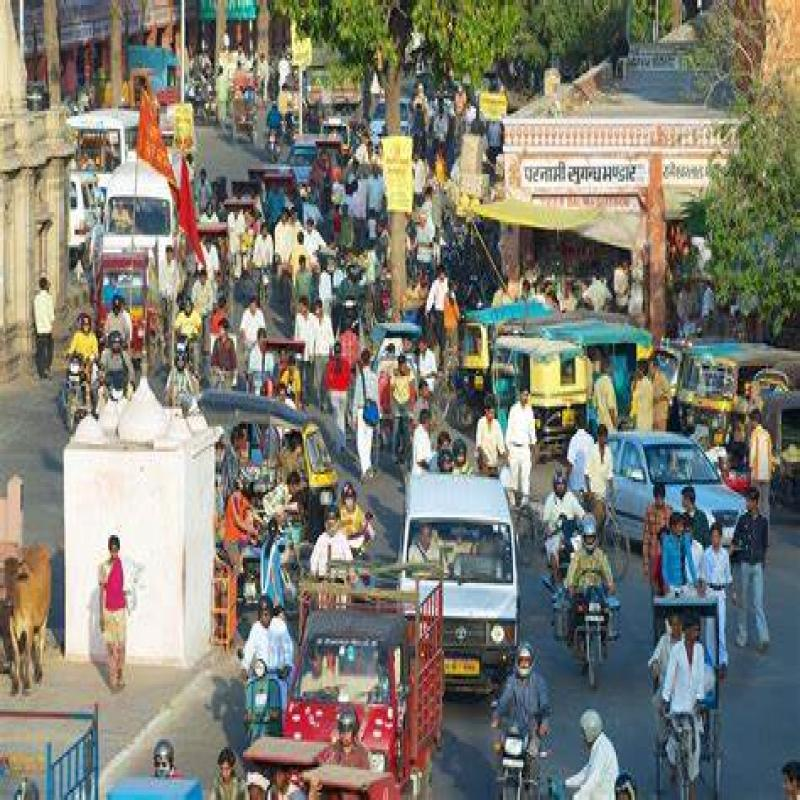bike: (577, 568, 617, 703), (487, 722, 532, 800), (63, 356, 86, 444)
